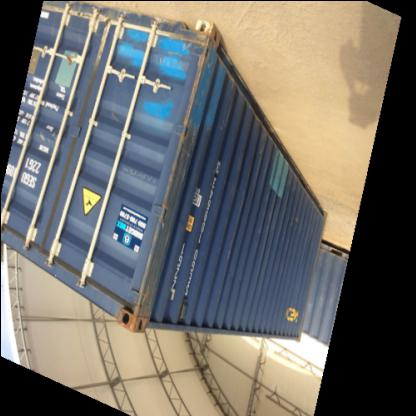Damage: (166, 33, 214, 155), (146, 152, 182, 260), (113, 258, 160, 332), (89, 19, 116, 74)
